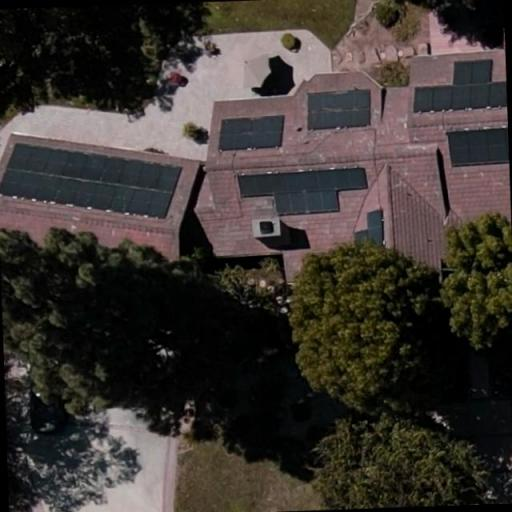solar-panel: (0, 142, 183, 219), (236, 166, 365, 217), (412, 60, 507, 113), (446, 126, 509, 167), (307, 89, 371, 129), (218, 118, 283, 150), (353, 208, 384, 245)
